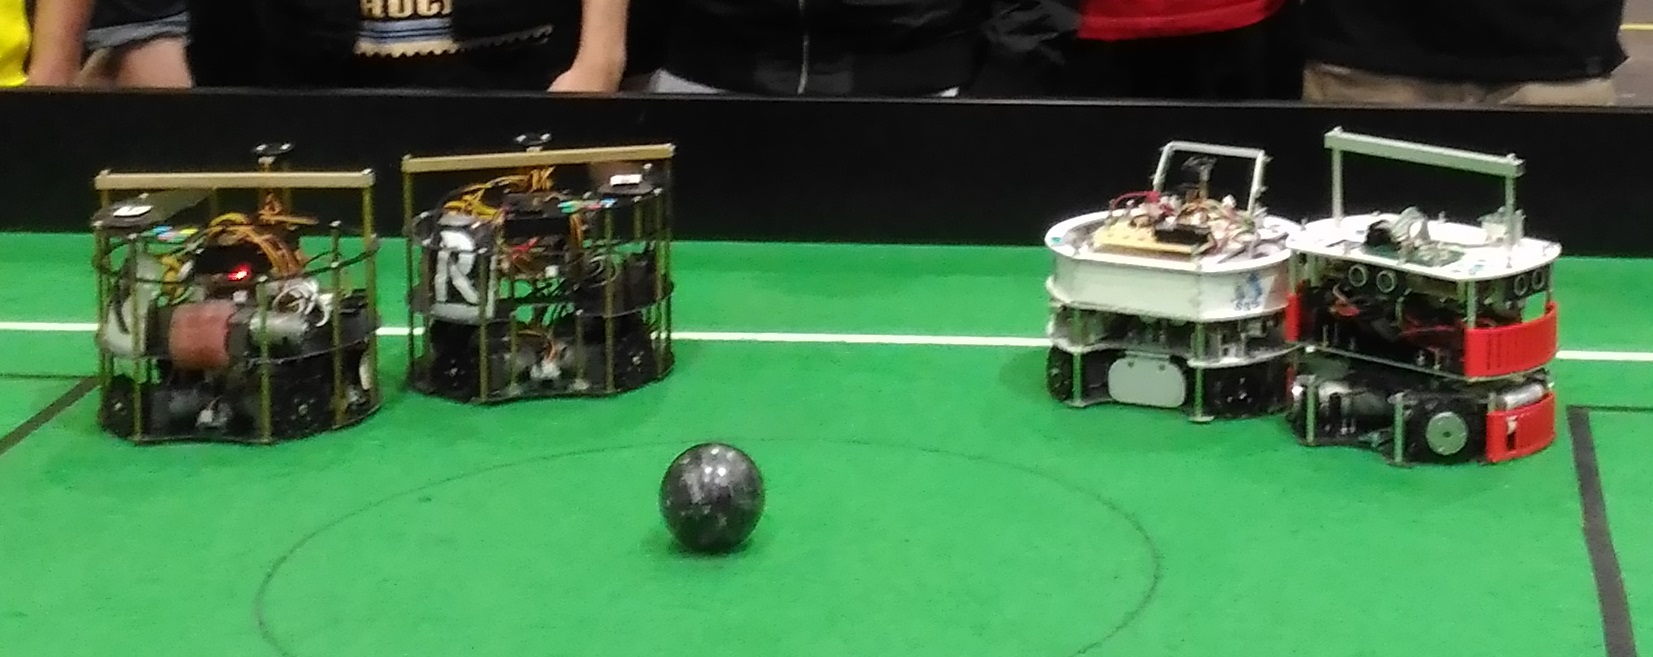Robot: (87, 143, 387, 461), (1285, 136, 1562, 474), (395, 125, 695, 411), (1041, 128, 1294, 448)
